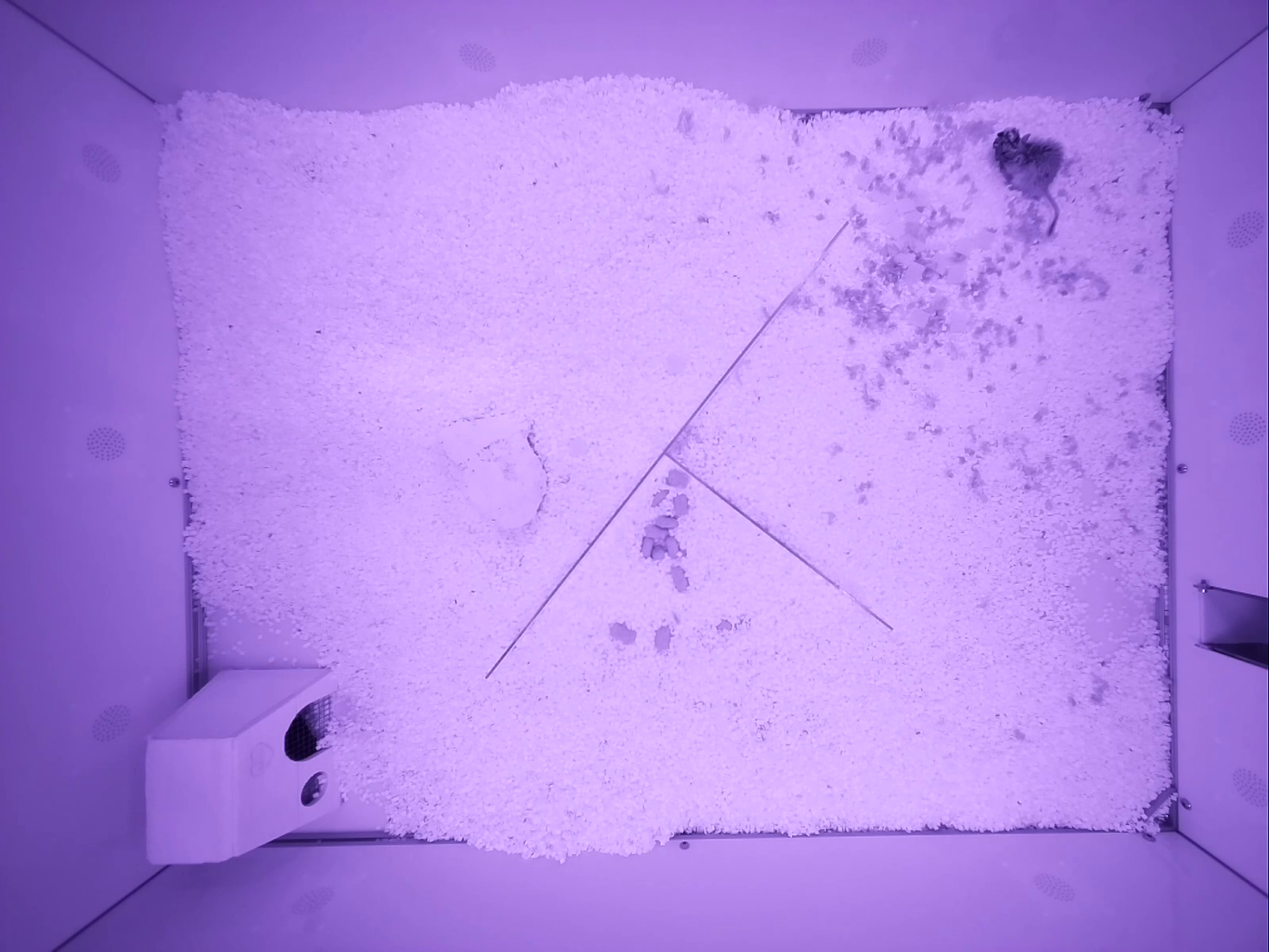adult_back: (993, 128, 1062, 235)
